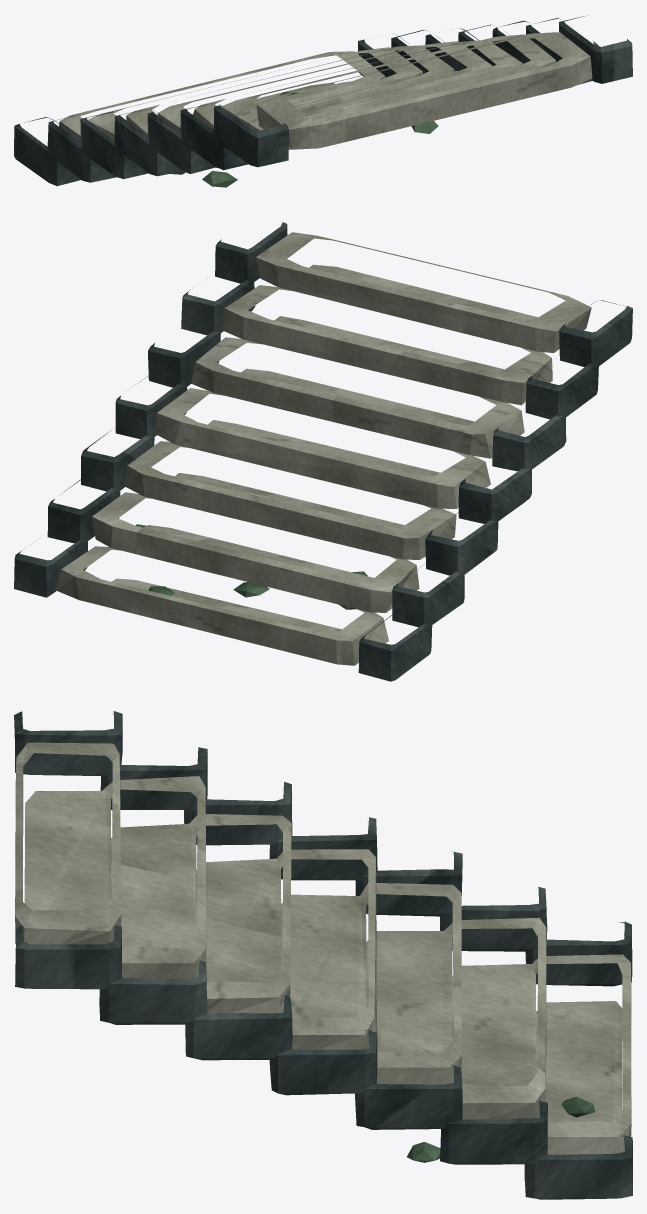
The model's file is 0372_stairs_22.glb.
3 views of the same model, one above another, from view 1: azimuth 30°, elevation 25°; view 2: azimuth 150°, elevation 25°; view 3: azimuth 270°, elevation 25° (orthographic). The views are drawn at different scales.
Visible parts, largest first — view 1: stone_light, stone_dark, moss; view 2: stone_light, stone_dark, moss; view 3: stone_light, stone_dark, moss.
Part boxes in pixels (bbox=[...]): stone_light: bbox=[59, 32, 592, 149]; stone_dark: bbox=[14, 16, 632, 186]; moss: bbox=[170, 92, 438, 187]; stone_light: bbox=[56, 232, 591, 665]; stone_dark: bbox=[14, 222, 632, 681]; moss: bbox=[135, 524, 367, 609]; stone_light: bbox=[15, 742, 631, 1154]; stone_dark: bbox=[14, 711, 632, 1199]; moss: bbox=[407, 1096, 594, 1162].
Bounding box in the file's own units: 2.9 × 1.47 × 3.2.
Materials: 3 (3 with a texture image).
